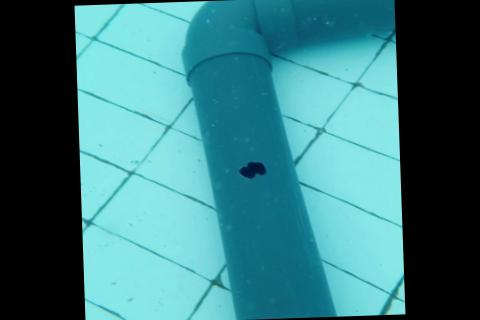kebocoran: (236, 159, 268, 178)
